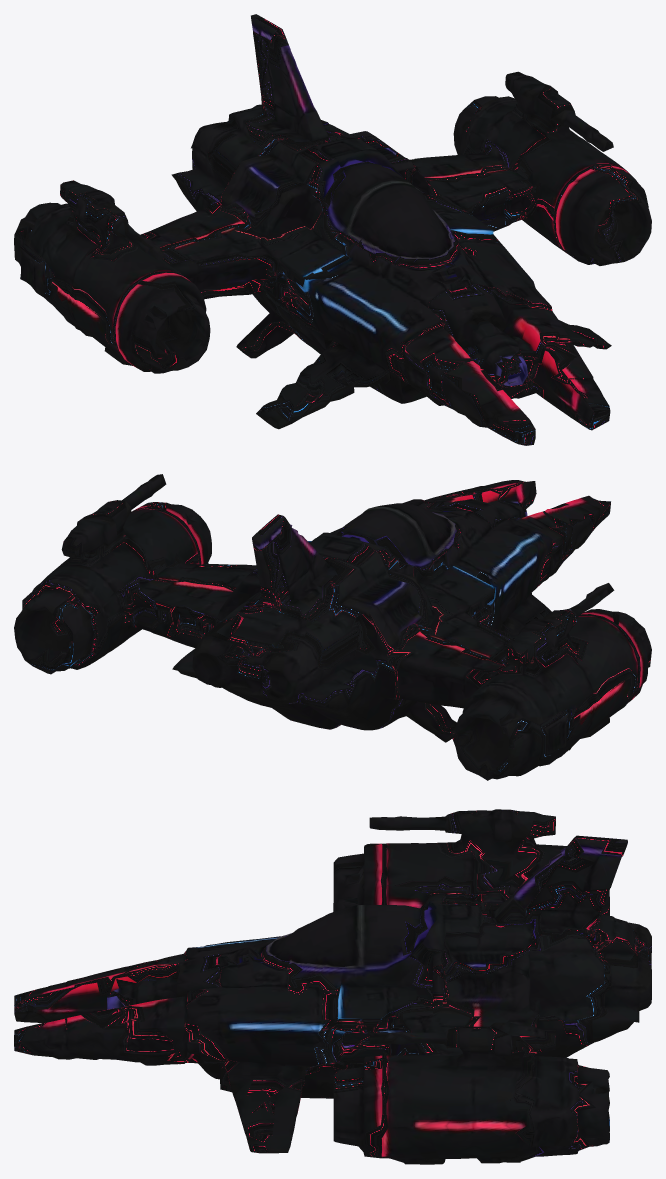
File: ally-c2.glb
The picture shows the model from 3 angles, top to bottom: view 1: azimuth 30°, elevation 25°; view 2: azimuth 150°, elevation 25°; view 3: azimuth 270°, elevation 25°; orthographic projection.
Visible parts, largest first — view 1: body; view 2: body; view 3: body.
Boxes of the visible parts, x1,y1,x2,y2 form: body: (14, 14, 651, 445); body: (14, 474, 651, 780); body: (14, 809, 651, 1164).
Bounding box in the file's own units: 0.9481 × 0.4258 × 0.9997.
Materials: 1 (1 with a texture image).
